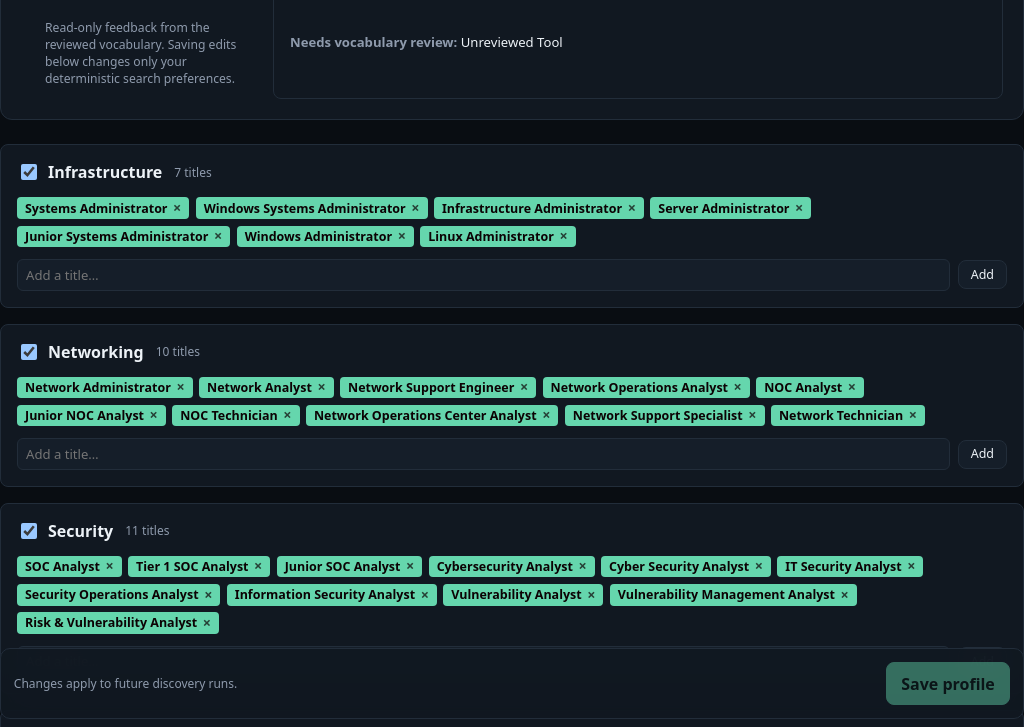
it: Search Profile UI › surfaces a save failure instead of silently dropping the error
(page scrolled)
Step 1. Click the checkbox labelled "Networking 10 titles" → click(29, 352), box [21, 344, 37, 360]
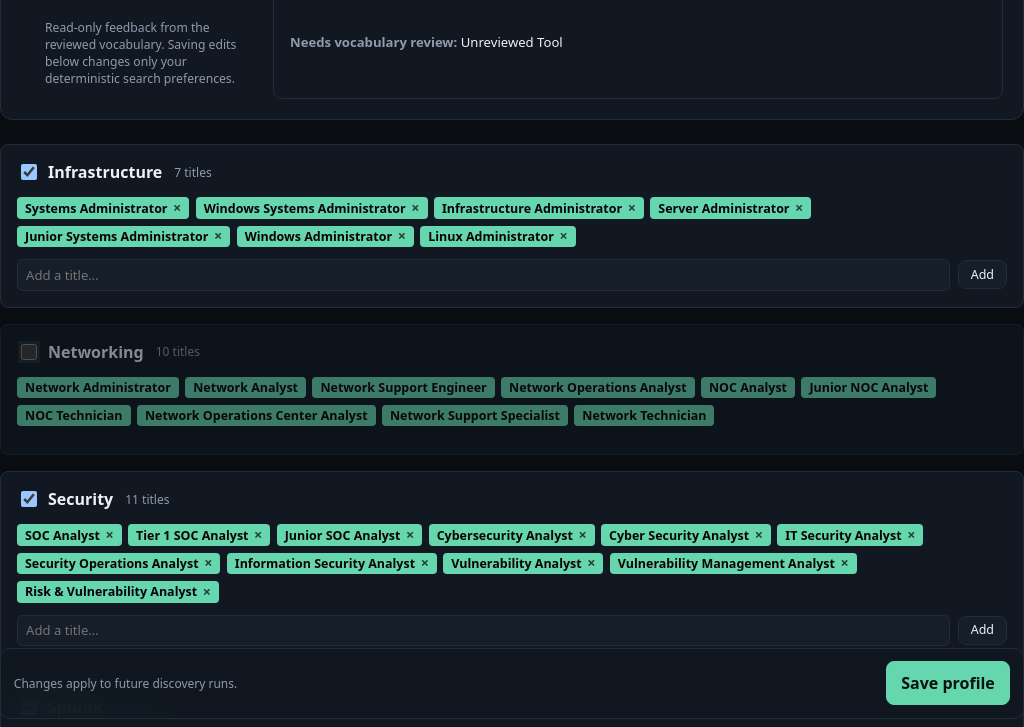
Step 2. Click the button "Save profile" → click(948, 683), box [886, 661, 1010, 705]
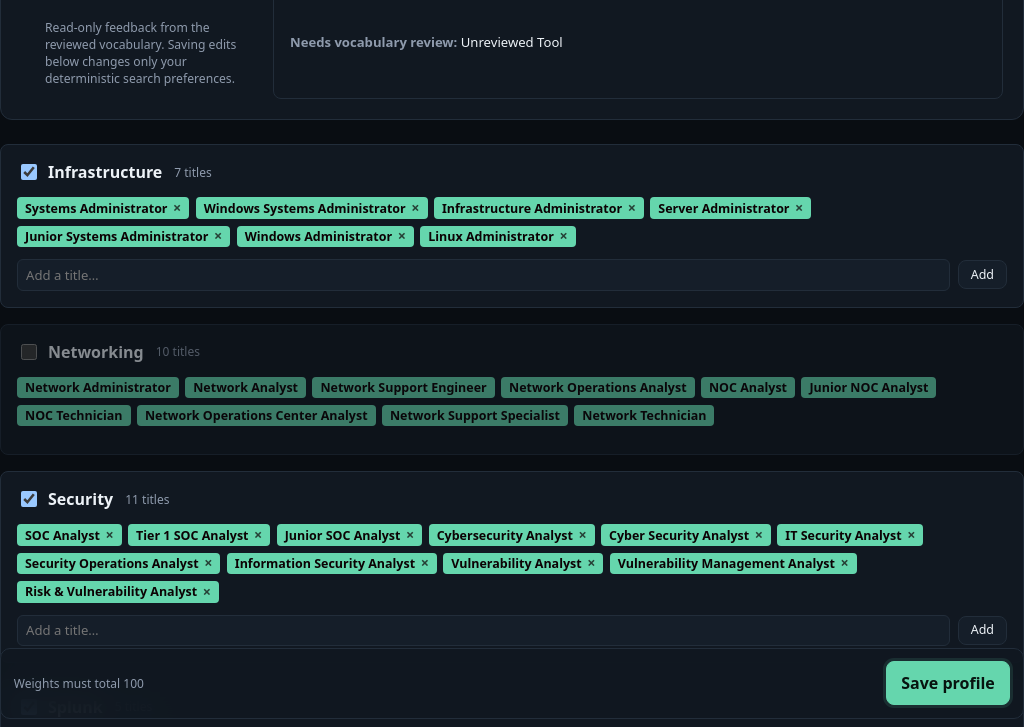
Now the text "Weights must total 100" is shown, box [14, 675, 144, 692]
